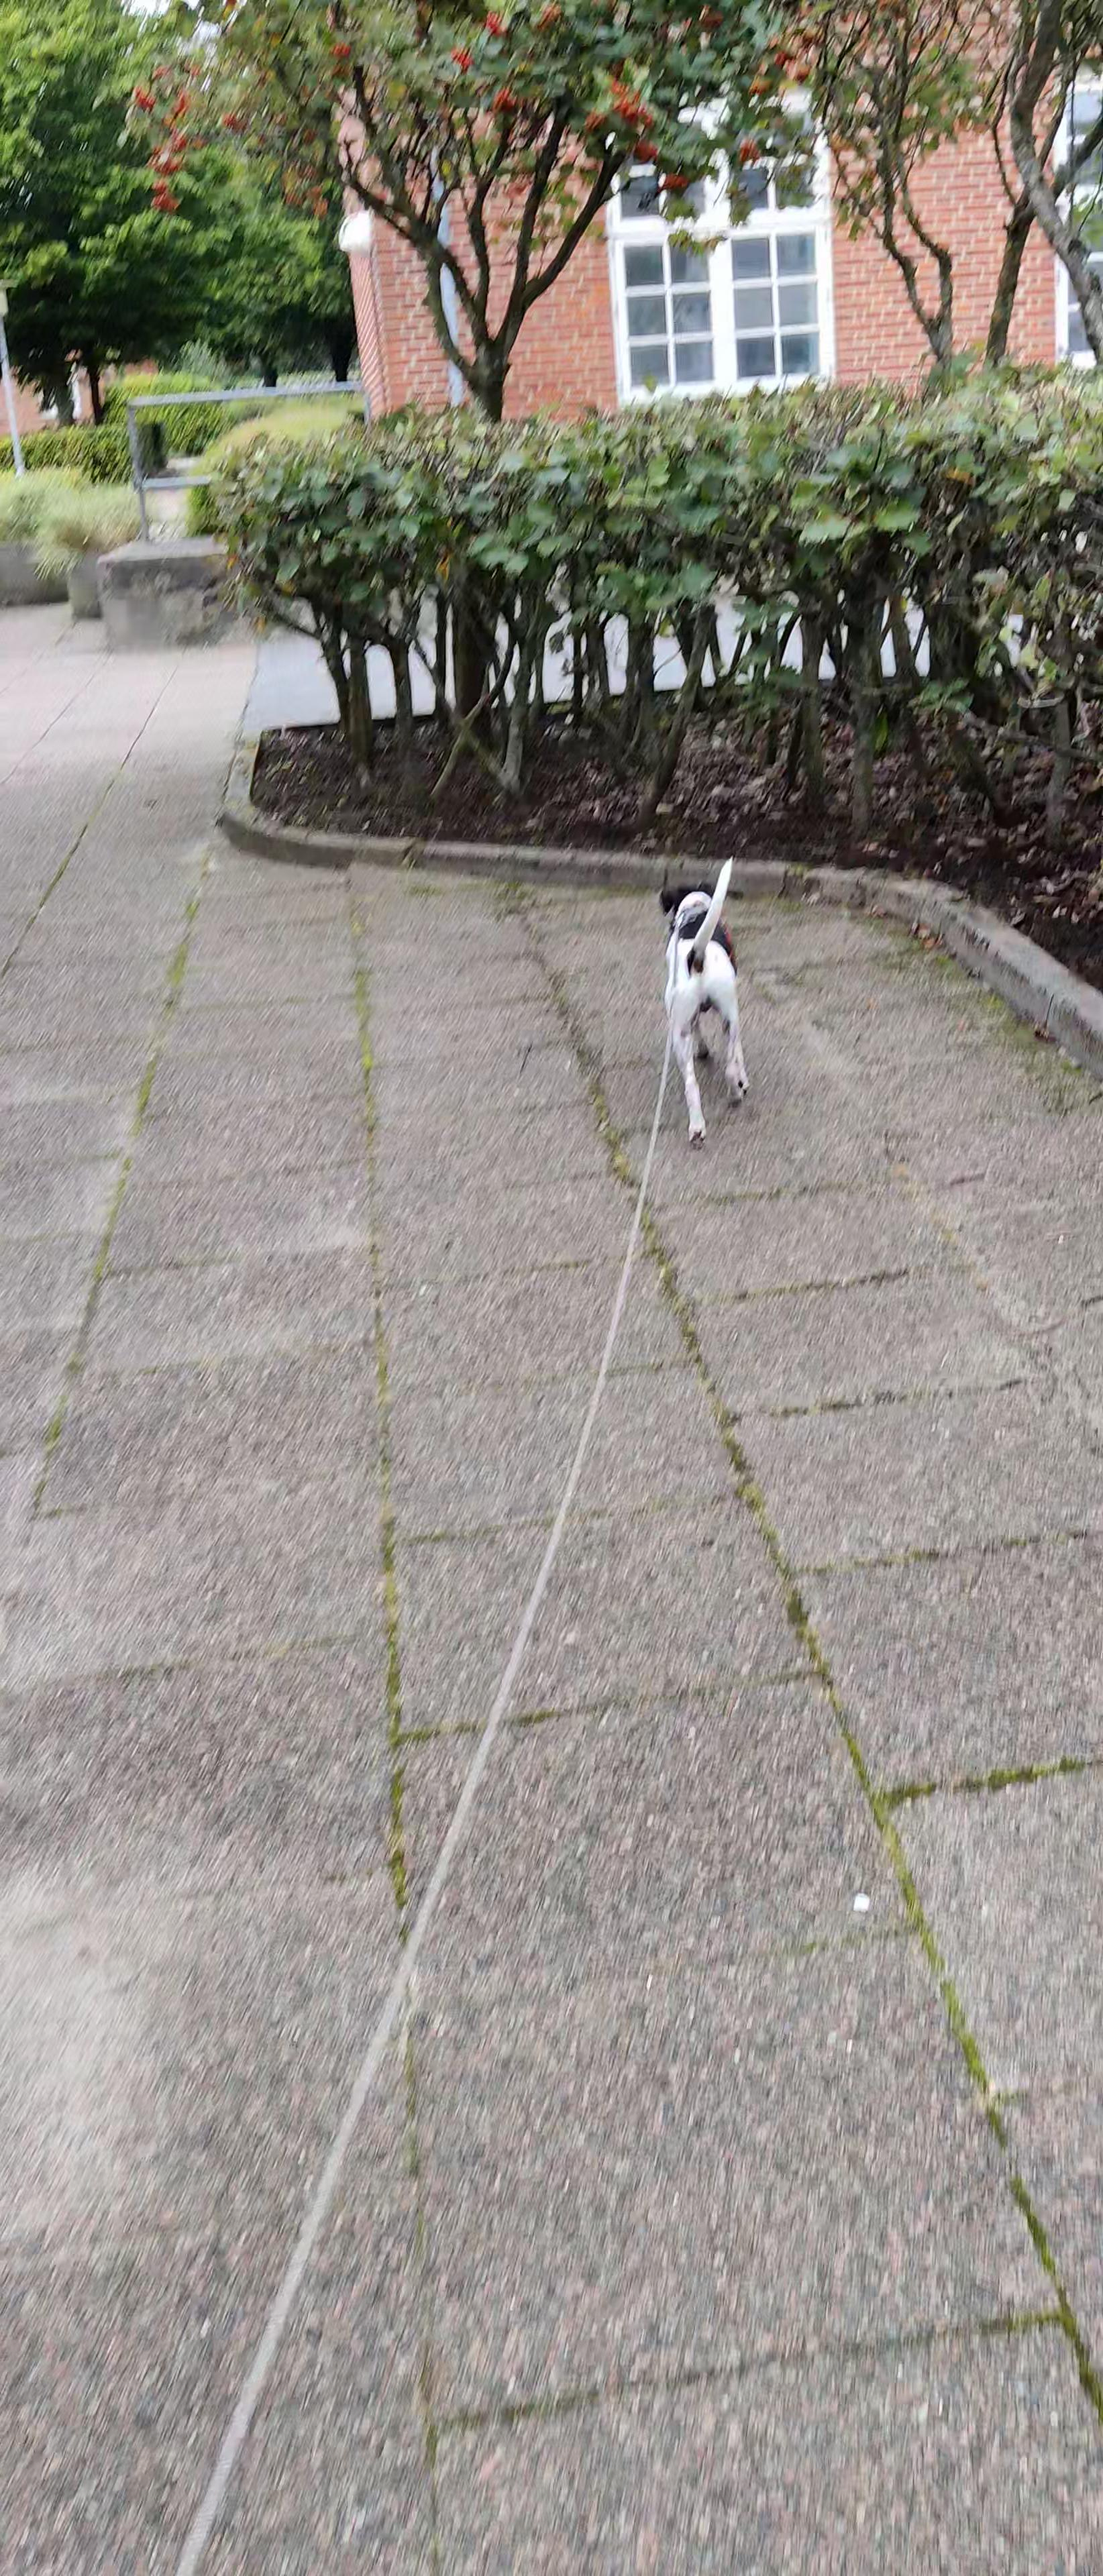Dog: (625, 839, 778, 1176)
